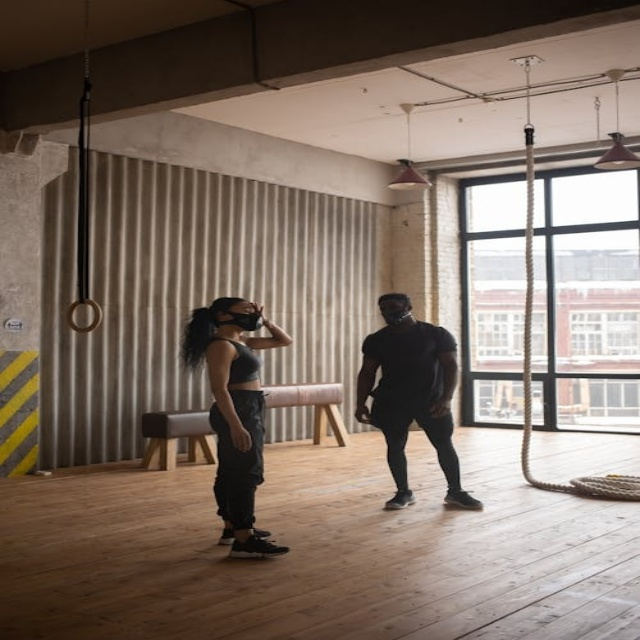Mascara: (219, 310, 262, 331), (380, 305, 412, 325)
